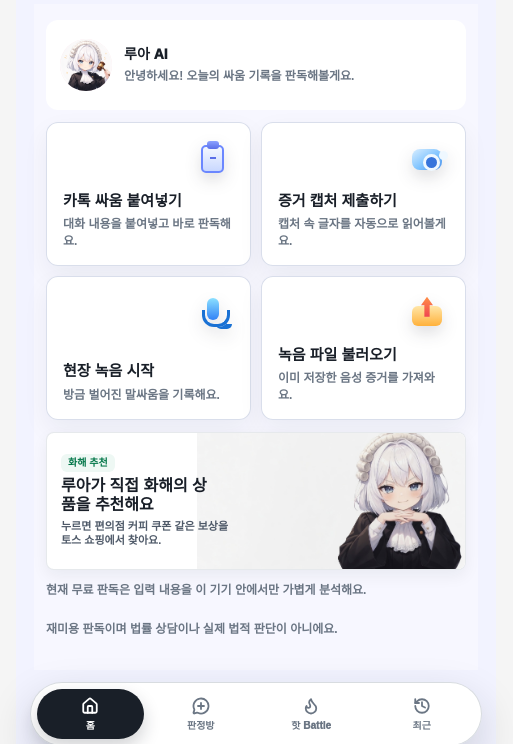
Test: InputHome › uses server comments, reactions, and reports on hot Battle detail
Step 1. Click the button "핫 Battle" → point(311, 714), box [258,689,364,739]
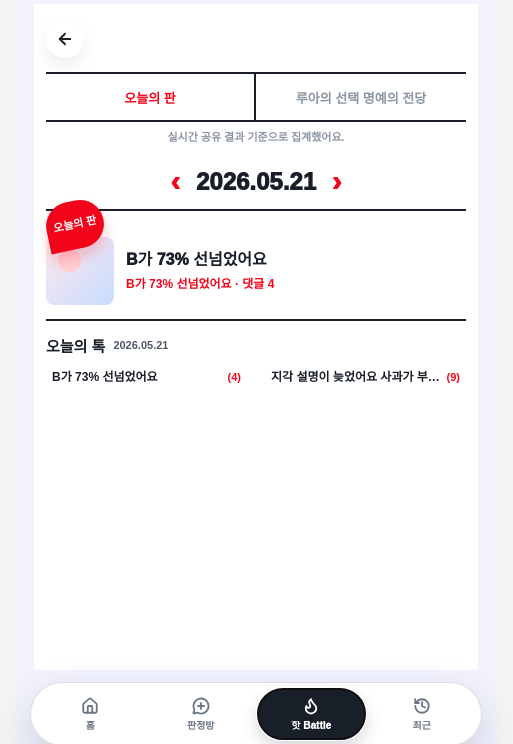
Step 2. Click the button "B가 73% 선넘었어요 (4)" → point(146, 377), box [46,368,247,386]
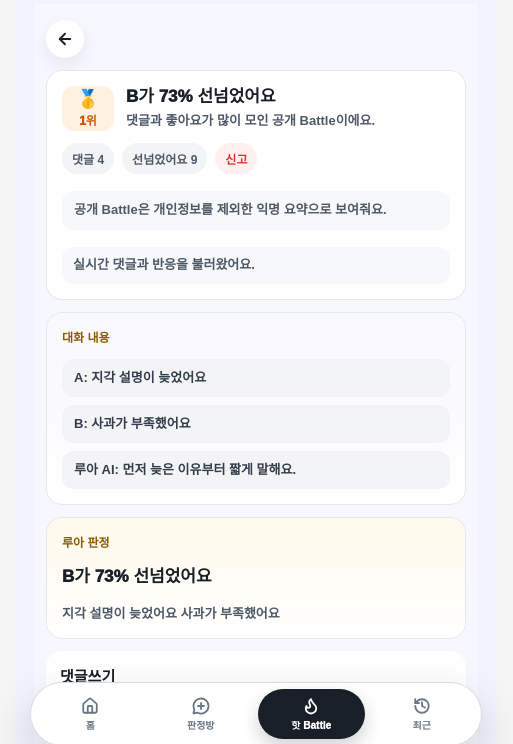
Now the list item "서버 댓글이 먼저 보여요" is shown, box [60,696,452,734]
Step 3. Click the button "선넘었어요 9" → point(165, 159), box [122,143,207,174]
(page scrolled)
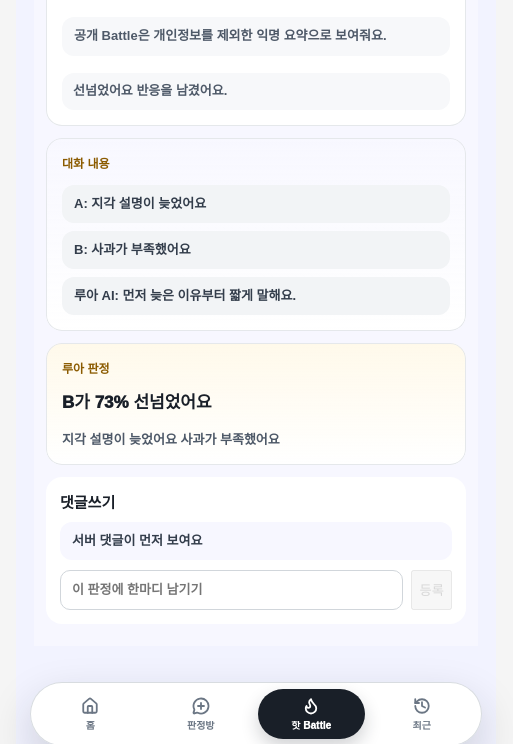
Step 4. Type "실시간 댓글" into the field named "핫 Battle 댓글" → point(232, 590), box [60,570,404,610]
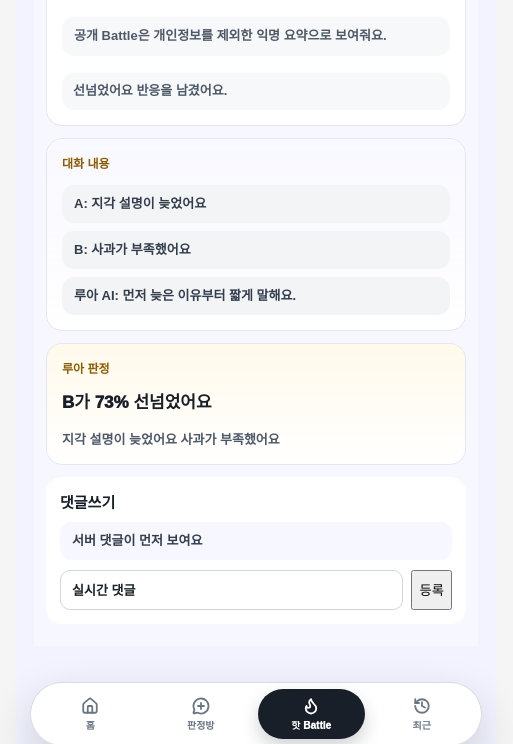
Step 5. Click the button "등록" → point(432, 590), box [412,570,452,610]
(page scrolled)
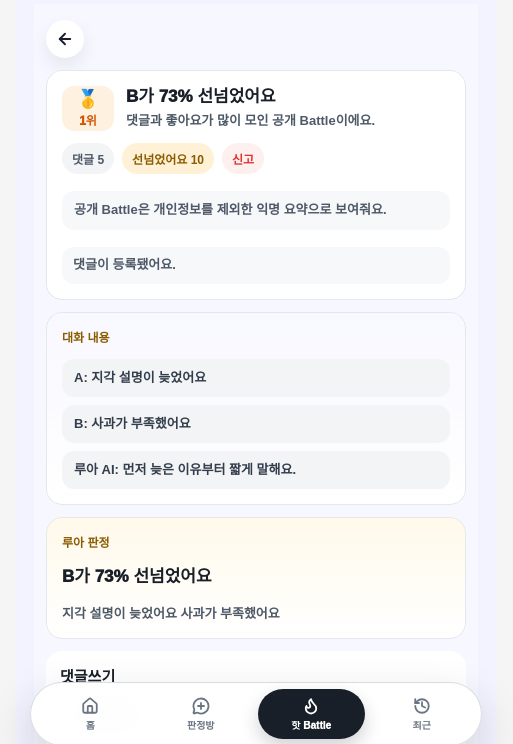
Expected: the list item "실시간 댓글" is shown, [60,696,452,734]
Now the text "댓글 5" is shown, box [62,143,114,174]
Step 6. Click the button "신고" → point(243, 159), box [222,143,264,174]
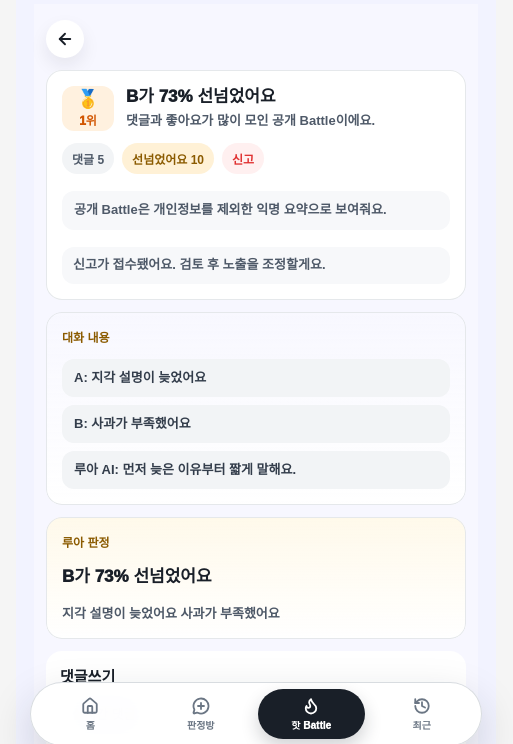
Now the text "신고가 접수됐어요. 검토 후 노출을 조정할게요." is shown, box [62,247,450,284]
